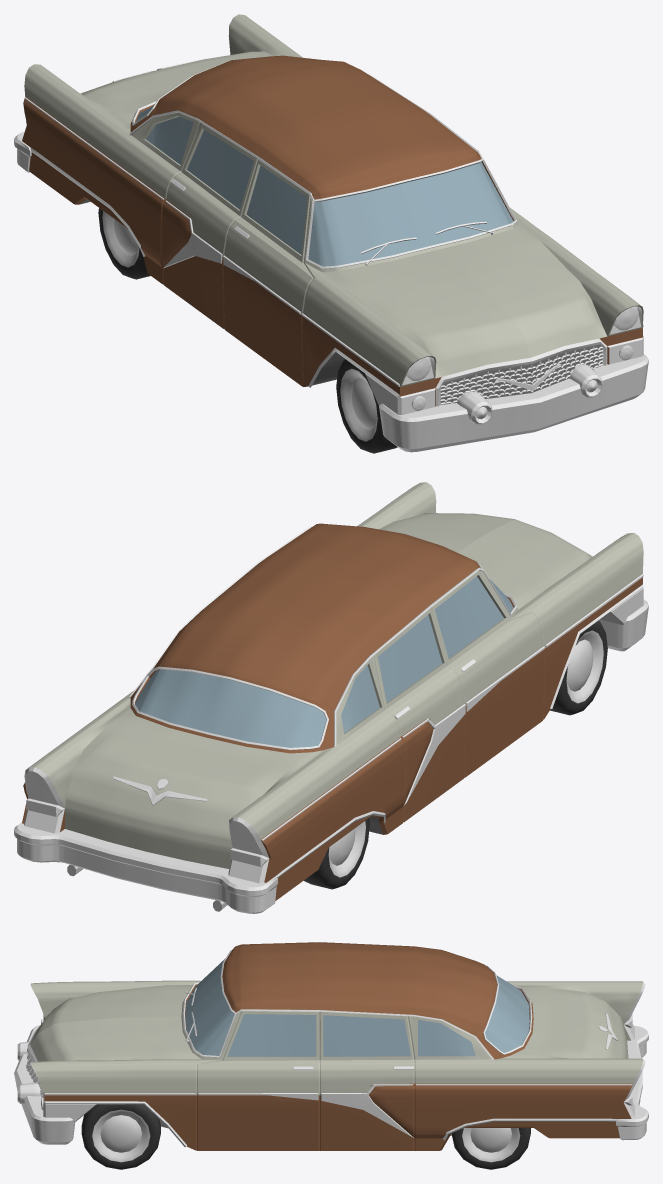
The model's file is Chaika_HighPoly.fbx.
The picture shows the model from 3 angles, top to bottom: view 1: azimuth 30°, elevation 25°; view 2: azimuth 150°, elevation 25°; view 3: azimuth 270°, elevation 25°; orthographic projection. The views are drawn at different scales.
Visible parts, largest first — view 1: Body, Wheel_FR, Wheel_RR; view 2: Body, Wheel_FR, Wheel_RR; view 3: Body, Wheel_FL, Wheel_RL.
Boxes of the visible parts, x1,y1,x2,y2 form: Body: (14, 14, 648, 452); Wheel_FR: (336, 359, 397, 453); Wheel_RR: (98, 208, 150, 279); Body: (14, 482, 648, 913); Wheel_FR: (550, 621, 607, 715); Wheel_RR: (304, 818, 369, 889); Body: (14, 942, 648, 1150); Wheel_FL: (81, 1104, 160, 1169); Wheel_RL: (451, 1128, 530, 1169).
Bounding box in the file's own units: 2.01 × 1.62 × 5.61.
